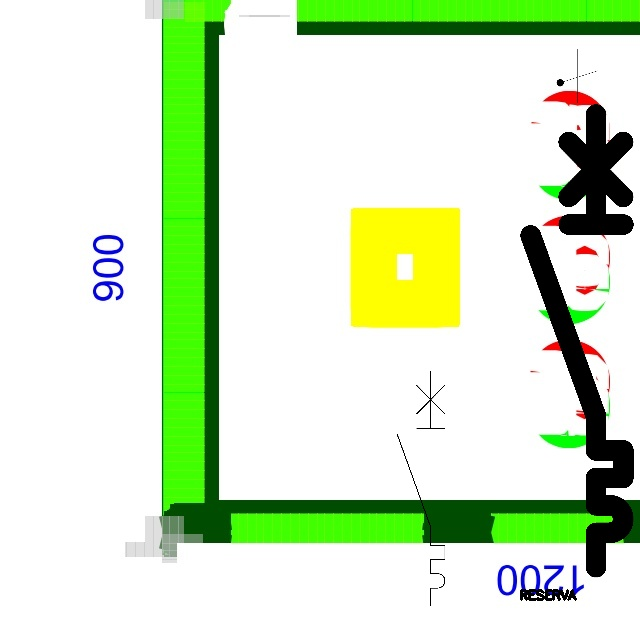interruptor_termomagnetico: (519, 102, 635, 578), (391, 365, 451, 612)
